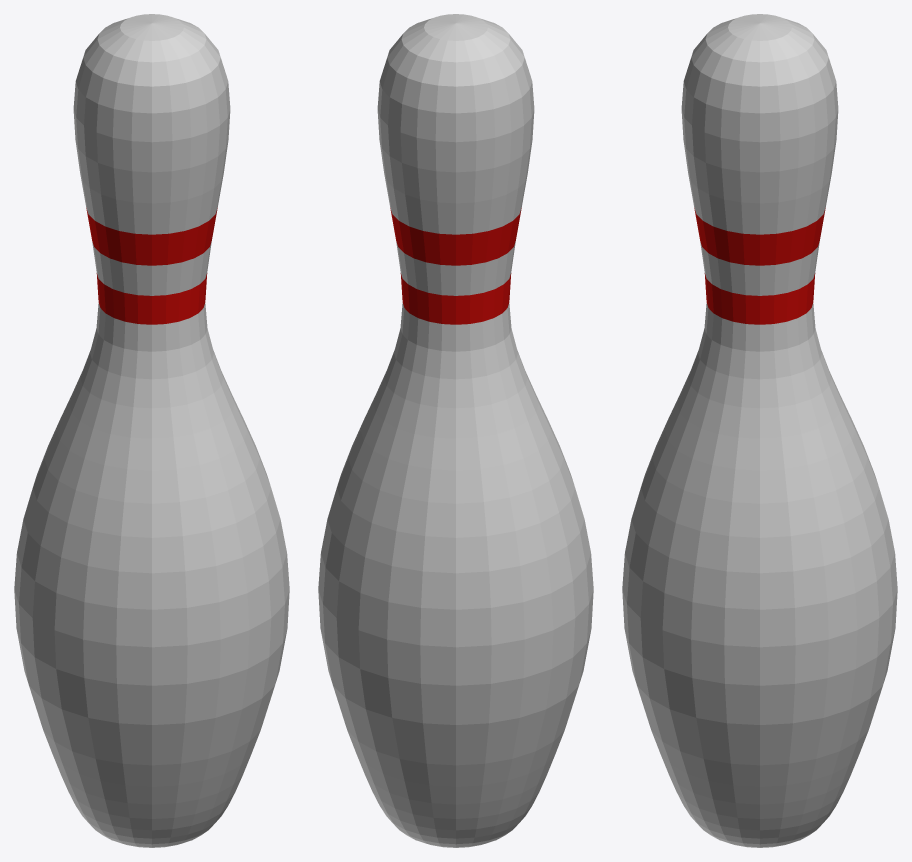
The model's file is pin.fbx.
The picture shows the model from 3 angles, left to right: view 1: azimuth 30°, elevation 25°; view 2: azimuth 150°, elevation 25°; view 3: azimuth 270°, elevation 25°; orthographic projection.
Parts seen in each view (by area): view 1: Pin; view 2: Pin; view 3: Pin.
Boxes of the visible parts, x1,y1,x2,y2 form: Pin: (14,14,289,847); Pin: (318,14,593,847); Pin: (622,14,897,847).
Bounding box in the file's own units: 117 × 380 × 117.
